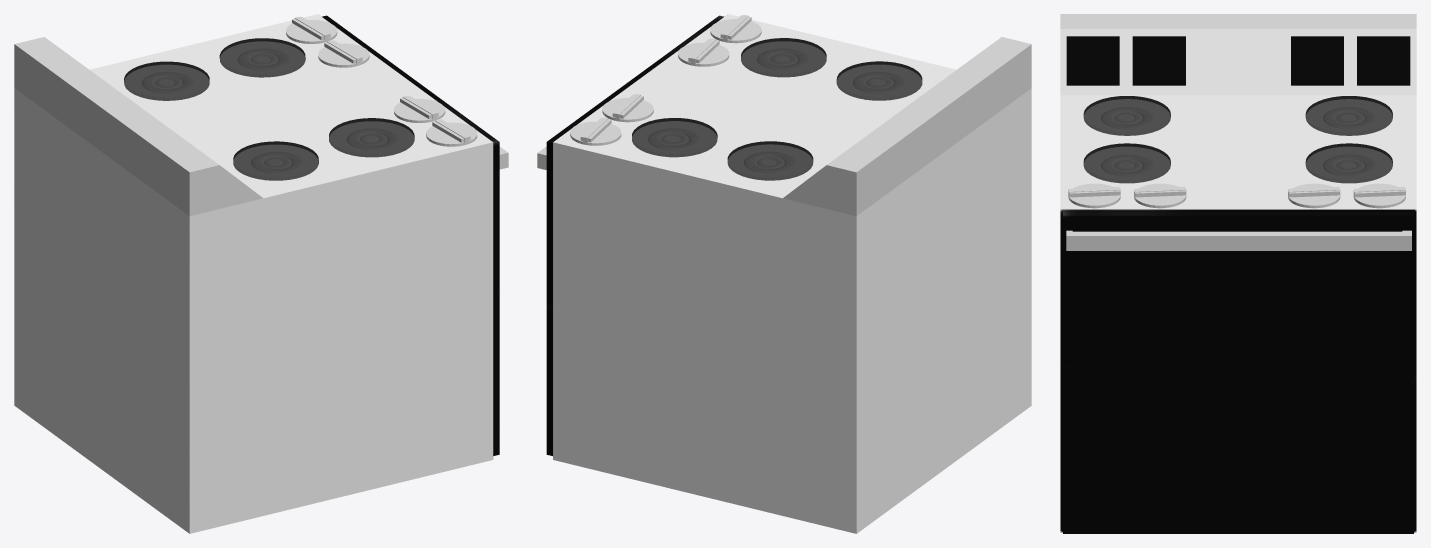
The model's file is cooker.fbx.
3 views of the same model, side by side, from view 1: azimuth 30°, elevation 25°; view 2: azimuth 150°, elevation 25°; view 3: azimuth 270°, elevation 25° (orthographic).
Visible parts, largest first — view 1: Body, Cube.002, Hob.003, Hob, Hob.002, Hob.001, Control3, Control1, Control4, Control2, Hob Rings.002, Hob Rings (+2 smaller); view 2: Body, Cube.002, Hob, Hob.002, Hob.001, Hob.003, Control4, Control2, Control1, Control3, Hob Rings.003, Hob Rings (+2 smaller); view 3: Body, Cube.002, Handle, Hob.001, Hob.003, Hob, Hob.002, Plane, Plane.001, Plane.002, Plane.003, Control1 (+7 smaller).
Boxes of the visible parts, bbox=[...] form: Body: bbox=[14, 14, 499, 533]; Cube.002: bbox=[14, 37, 262, 216]; Hob.003: bbox=[219, 38, 305, 77]; Hob: bbox=[233, 141, 318, 180]; Hob.002: bbox=[124, 61, 209, 100]; Hob.001: bbox=[329, 118, 414, 157]; Control3: bbox=[318, 40, 369, 67]; Control1: bbox=[426, 119, 477, 146]; Control4: bbox=[286, 16, 337, 43]; Control2: bbox=[394, 95, 445, 122]; Hob Rings.002: bbox=[142, 72, 192, 93]; Hob Rings: bbox=[251, 152, 302, 173]; Body: bbox=[546, 14, 1031, 533]; Cube.002: bbox=[783, 37, 1031, 216]; Hob: bbox=[836, 61, 922, 100]; Hob.002: bbox=[727, 141, 813, 180]; Hob.001: bbox=[741, 38, 826, 77]; Hob.003: bbox=[632, 118, 717, 157]; Control4: bbox=[570, 117, 621, 145]; Control2: bbox=[678, 38, 729, 66]; Control1: bbox=[710, 15, 761, 43]; Control3: bbox=[602, 94, 653, 122]; Hob Rings.003: bbox=[648, 128, 699, 149]; Hob Rings: bbox=[853, 72, 903, 93]; Body: bbox=[1060, 95, 1416, 533]; Cube.002: bbox=[1060, 14, 1416, 95]; Handle: bbox=[1066, 230, 1411, 250]; Hob.001: bbox=[1083, 143, 1170, 183]; Hob.003: bbox=[1305, 143, 1392, 183]; Hob: bbox=[1083, 96, 1170, 135]; Hob.002: bbox=[1305, 96, 1392, 135]; Plane: bbox=[1066, 36, 1119, 85]; Plane.001: bbox=[1132, 36, 1185, 85]; Plane.002: bbox=[1357, 36, 1410, 85]; Plane.003: bbox=[1291, 36, 1343, 85]; Control1: bbox=[1068, 183, 1120, 208].
Bounding box in the file's own units: 212 × 228 × 200.
